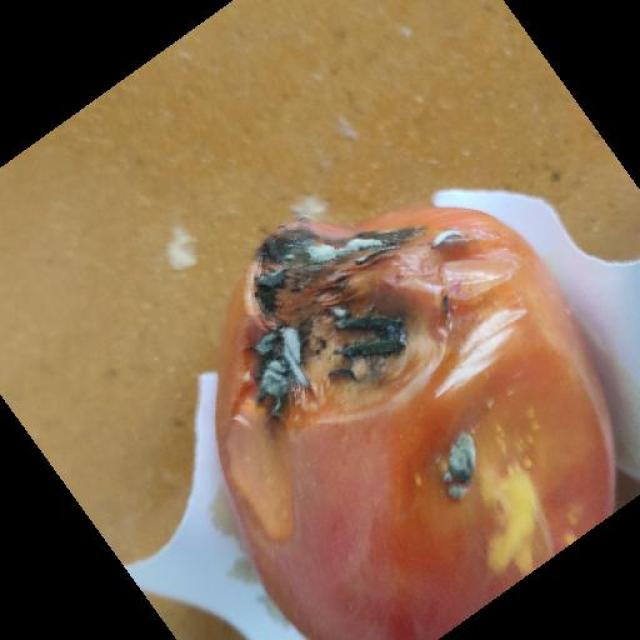Stale_tomato: (235, 202, 599, 624)
